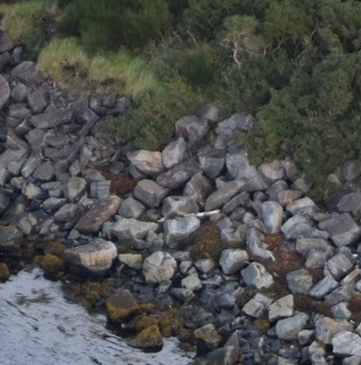straight_bar: (189, 198, 226, 224)
